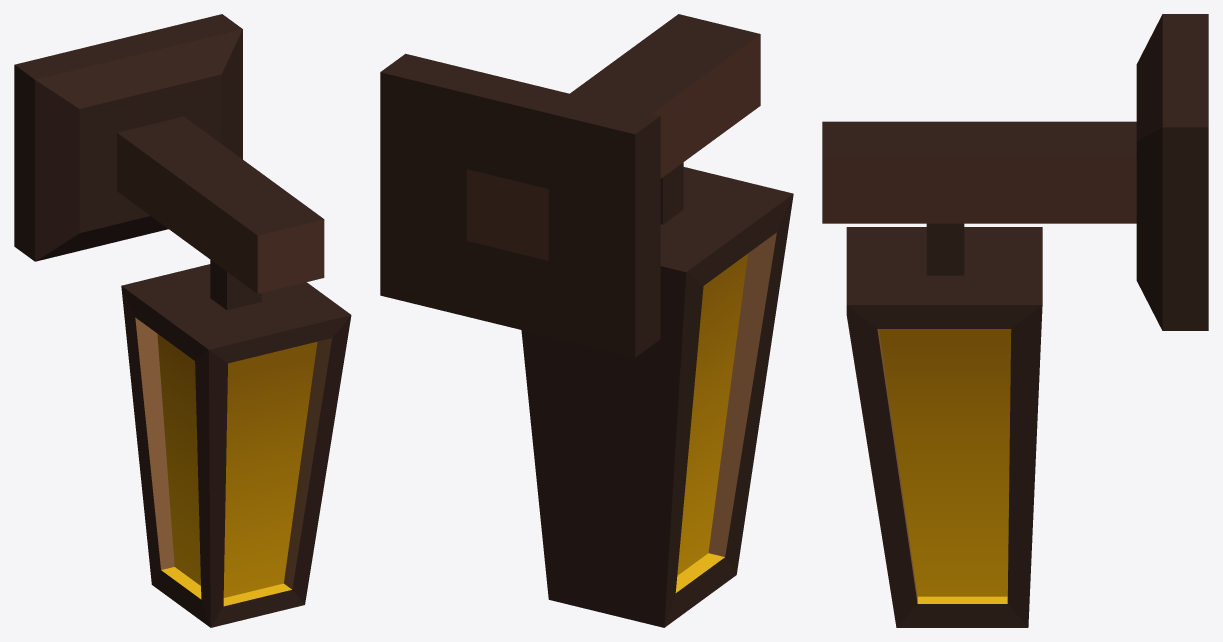
Rendered from Outdoor Box Lamp 4.glb.
The picture shows the model from 3 angles, left to right: view 1: azimuth 30°, elevation 25°; view 2: azimuth 150°, elevation 25°; view 3: azimuth 270°, elevation 25°; orthographic projection. The views are drawn at different scales.
Visible parts, largest first — view 1: Outdoor Box Lamp4; view 2: Outdoor Box Lamp4; view 3: Outdoor Box Lamp4.
Part boxes in pixels (bbox=[...]): Outdoor Box Lamp4: bbox=[14, 14, 351, 627]; Outdoor Box Lamp4: bbox=[380, 14, 793, 627]; Outdoor Box Lamp4: bbox=[822, 14, 1208, 627].
Size of the model in its own units: 0.5766 by 1.26 by 0.8299.
Materials: 1 (1 with a texture image).
